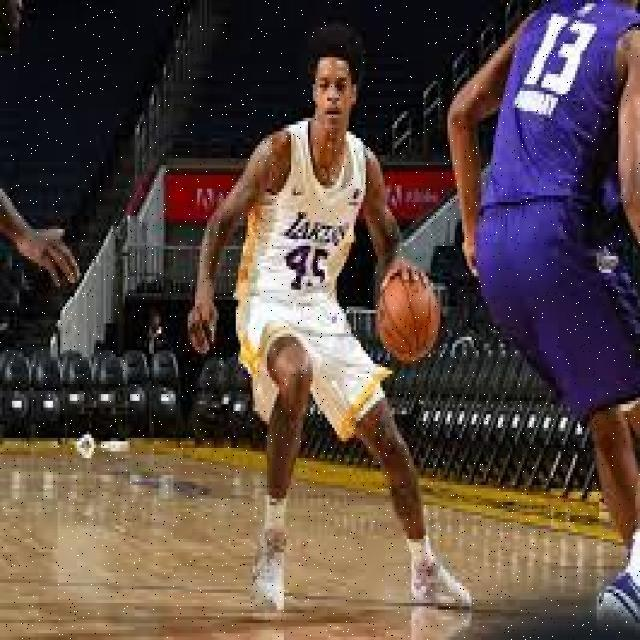ball: (378, 279, 440, 362)
